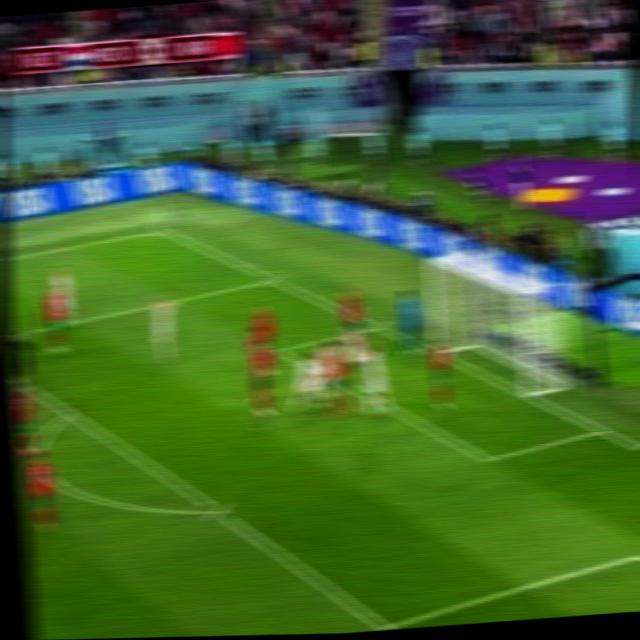bigarea_bottom_inner: (368, 609, 400, 631)
bigarea_top_outter: (259, 266, 284, 290)
bottom_arc_area_intersection: (202, 495, 230, 526)
corner: (147, 220, 174, 239)
smallarea_bottom_inner: (470, 441, 503, 476)
smallarea_bottom_outter: (586, 415, 614, 443)
smallarea_top_inner: (267, 338, 291, 361)
smallarea_top_outter: (363, 315, 389, 338)
top_arc_area_intersection: (55, 400, 82, 425)
